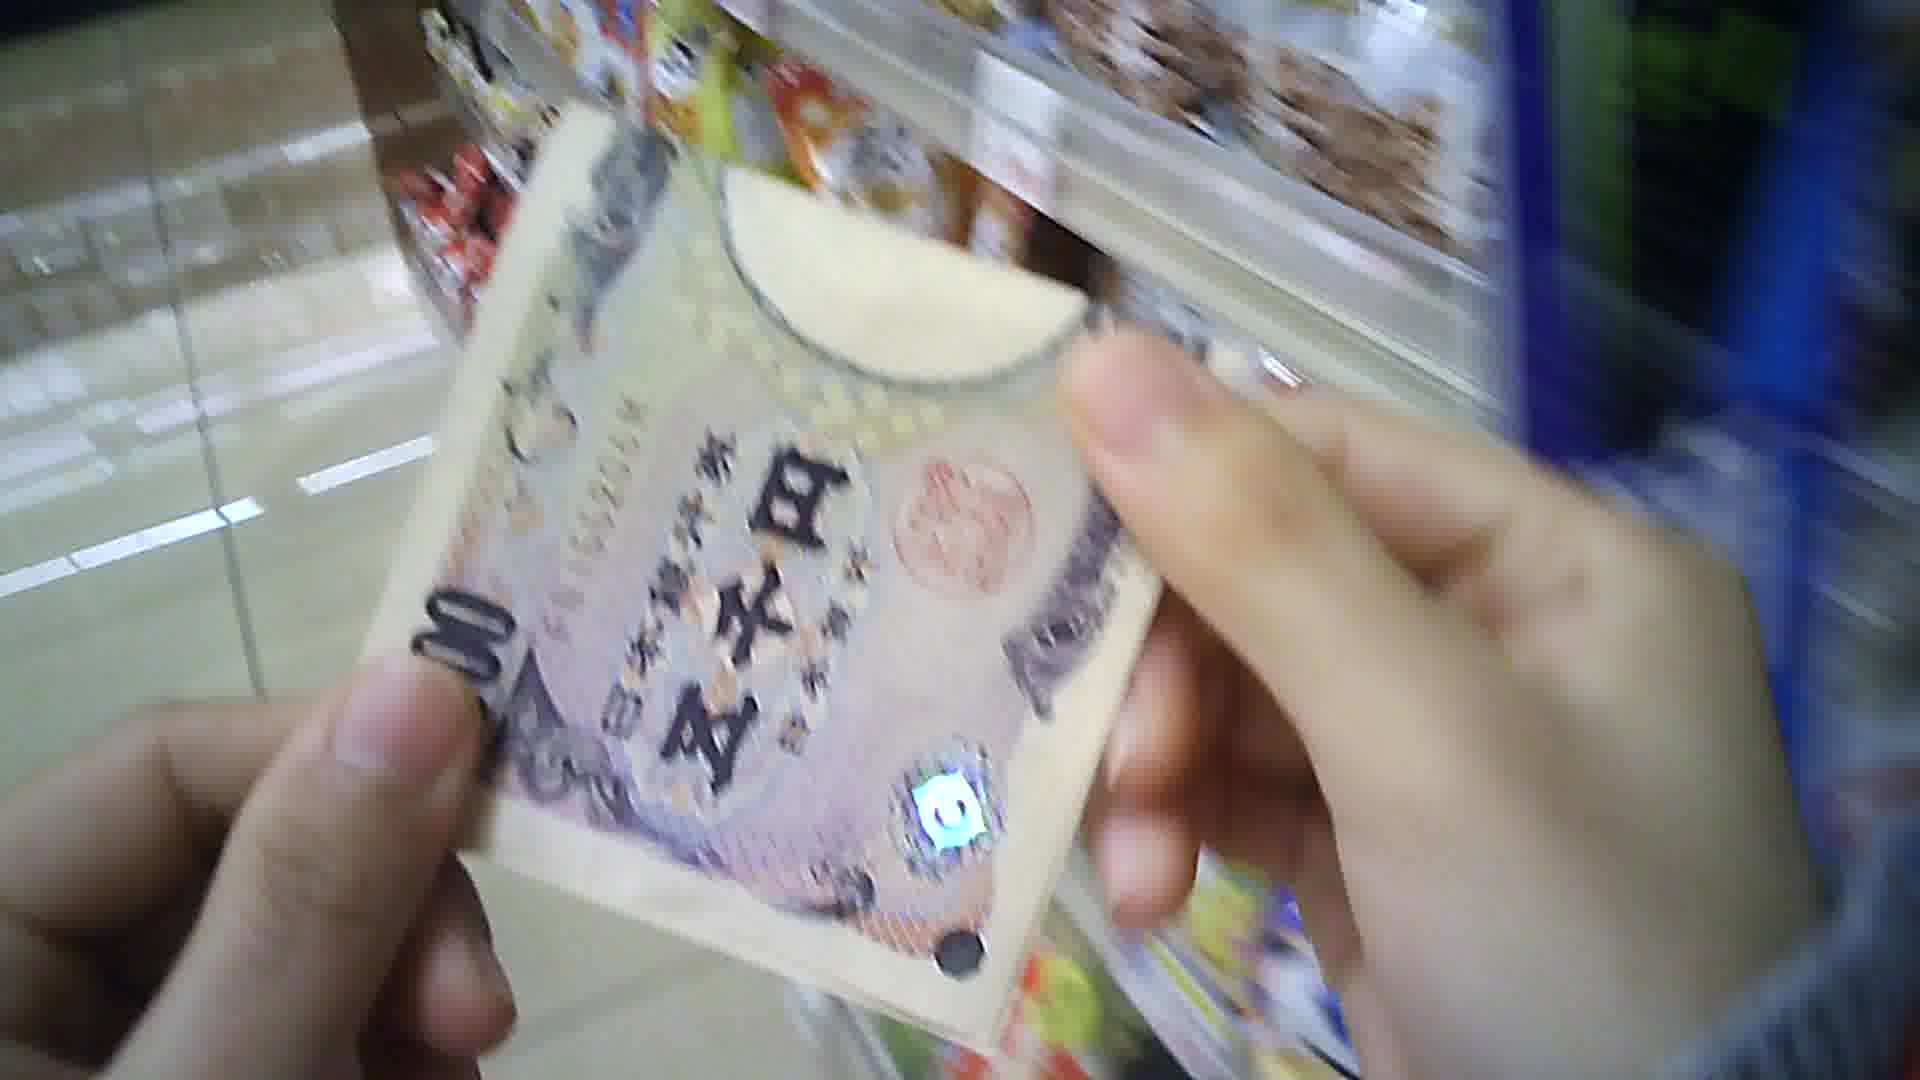5,000 Yen: (318, 98, 1226, 1040)
